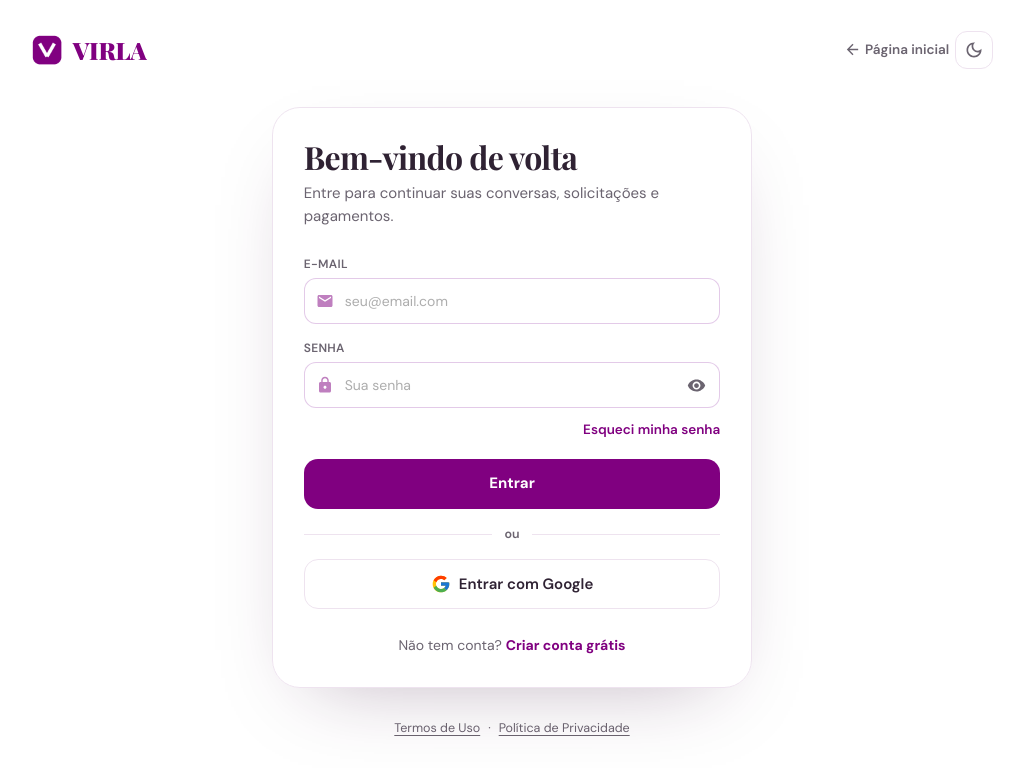
Test: Página de Login (Firebase) › login sem e-mail verificado mostra o modal e não navega
In the field with placeholder "seu@email.com": (512, 302) [304,278,720,324], type "ana@provedor.com"
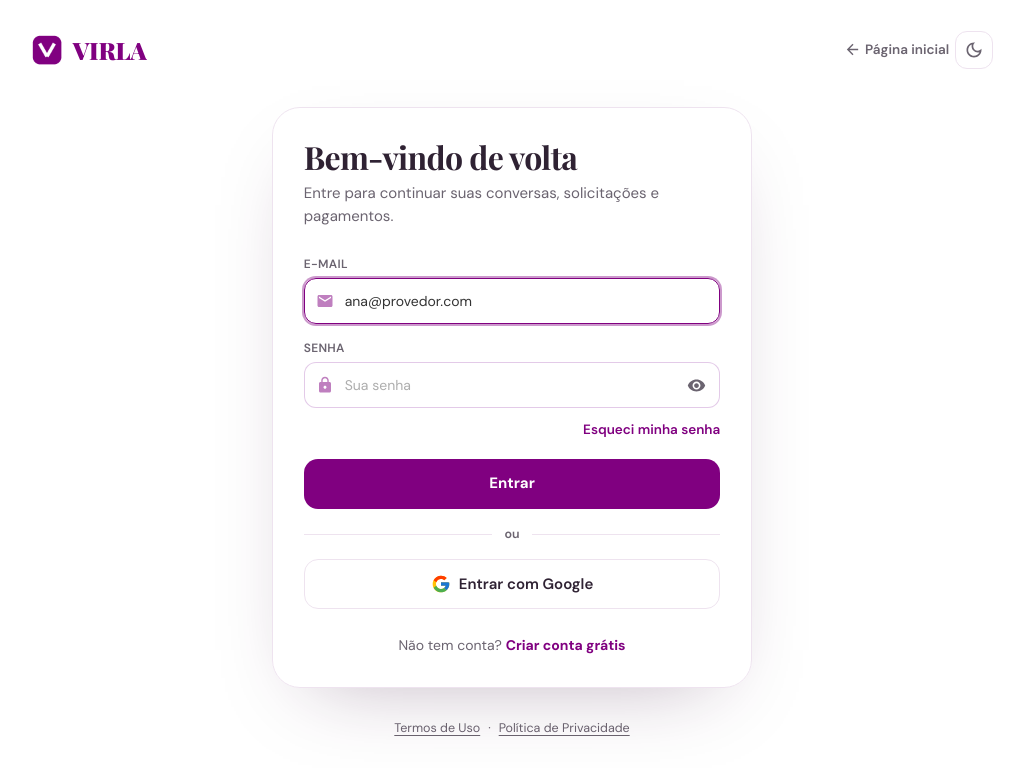
In the password field with placeholder "Sua senha": (512, 386) [304,362,720,408], type "segredo1"
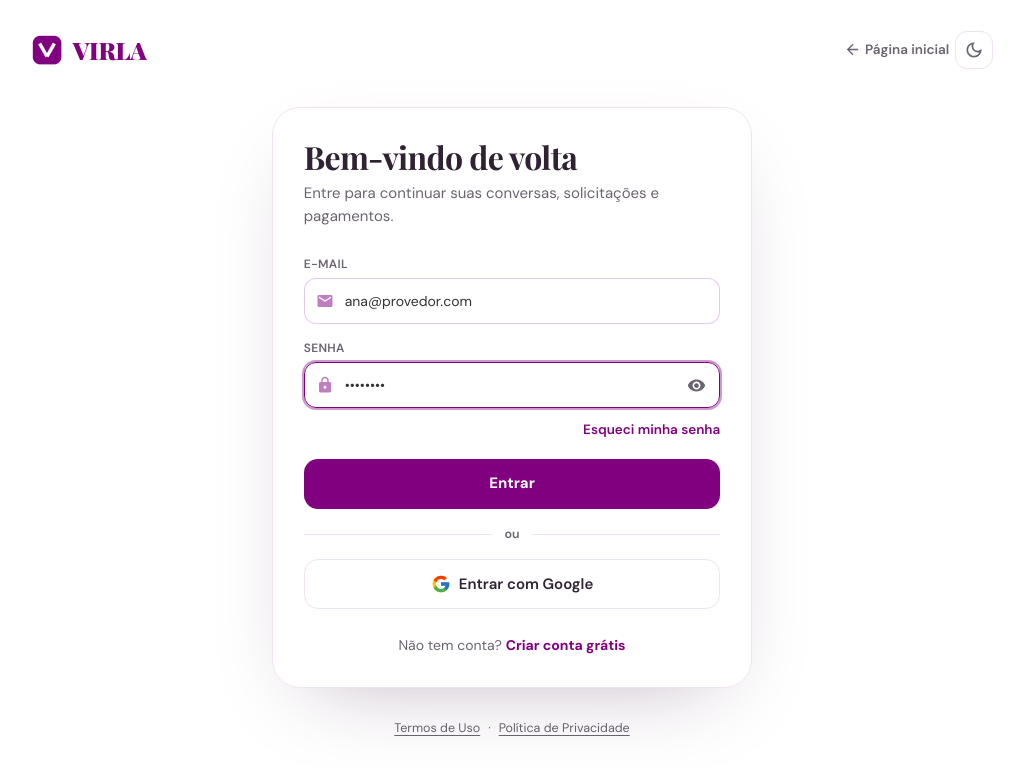
Click the button "Entrar": (512, 484) [304,459,720,509]
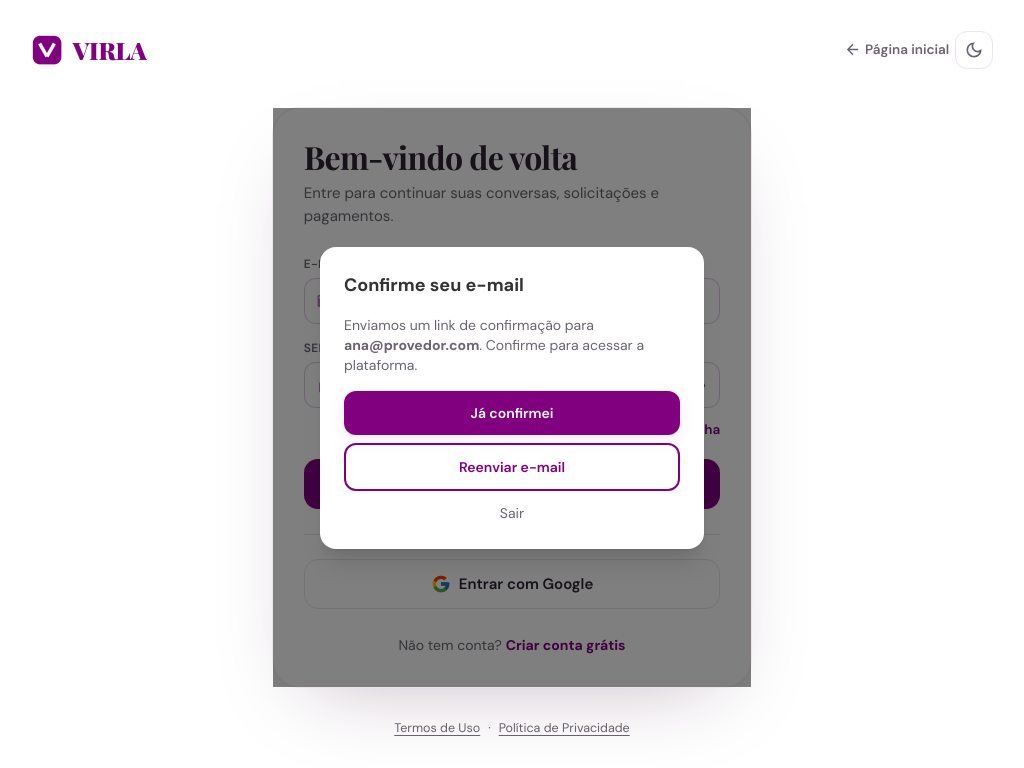
Now the heading "Confirme seu e-mail" is shown, box [344,273,524,297]
